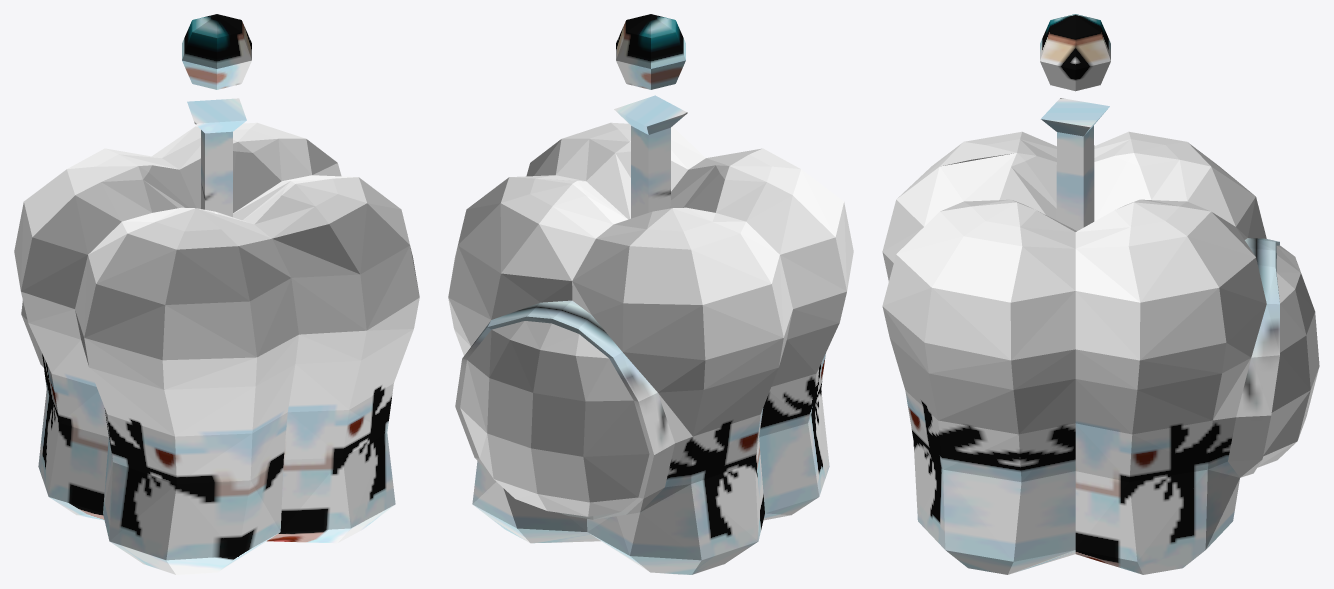
The model's file is static.ico.obj.
3 renders of one model, left to right at view 1: azimuth 30°, elevation 25°; view 2: azimuth 150°, elevation 25°; view 3: azimuth 270°, elevation 25°, orthographic.
Size of the model in its own units: 2.82 by 4.22 by 3.19.
